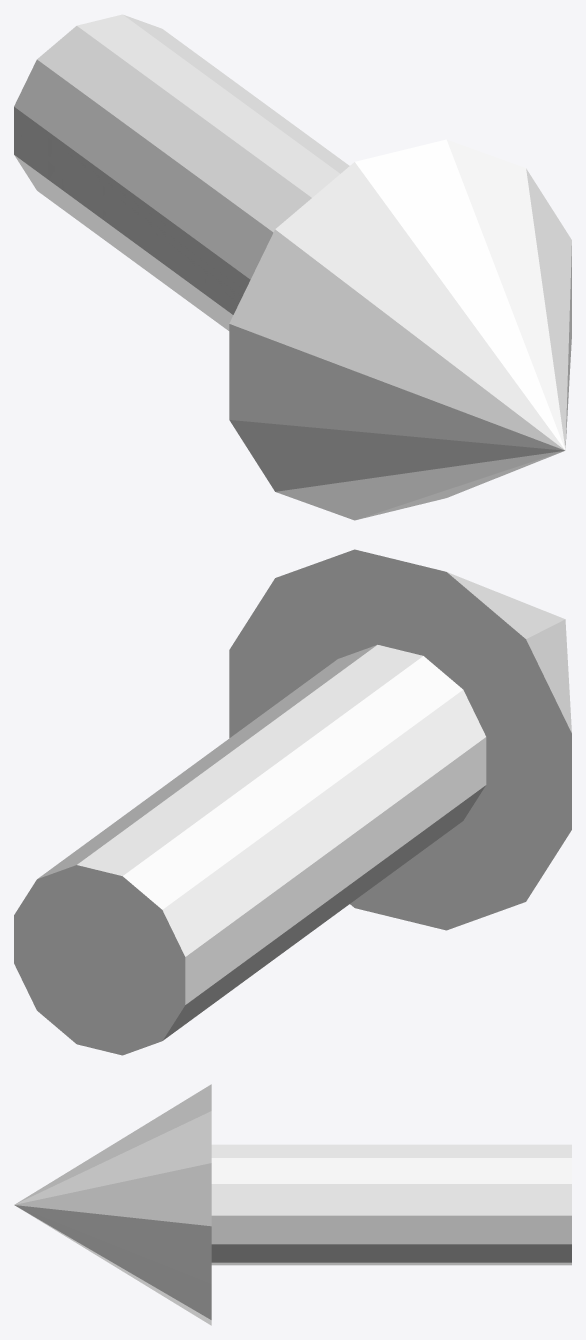
File: arrow.dae
3 renders of one model, top to bottom at view 1: azimuth 30°, elevation 25°; view 2: azimuth 150°, elevation 25°; view 3: azimuth 270°, elevation 25°, orthographic. The views are drawn at different scales.
Parts seen in each view (by area): view 1: cone, cylinder; view 2: cylinder, cone; view 3: cylinder, cone.
Boxes of the visible parts, x1,y1,x2,y2 form: cone: (229, 139, 571, 520); cylinder: (14, 14, 349, 330); cylinder: (14, 644, 486, 1055); cone: (229, 549, 571, 930); cylinder: (211, 1144, 571, 1265); cone: (14, 1084, 211, 1325).
Size of the model in its own units: 0.15 by 0.15 by 0.3531.
Materials: 1 (1 with a texture image).
